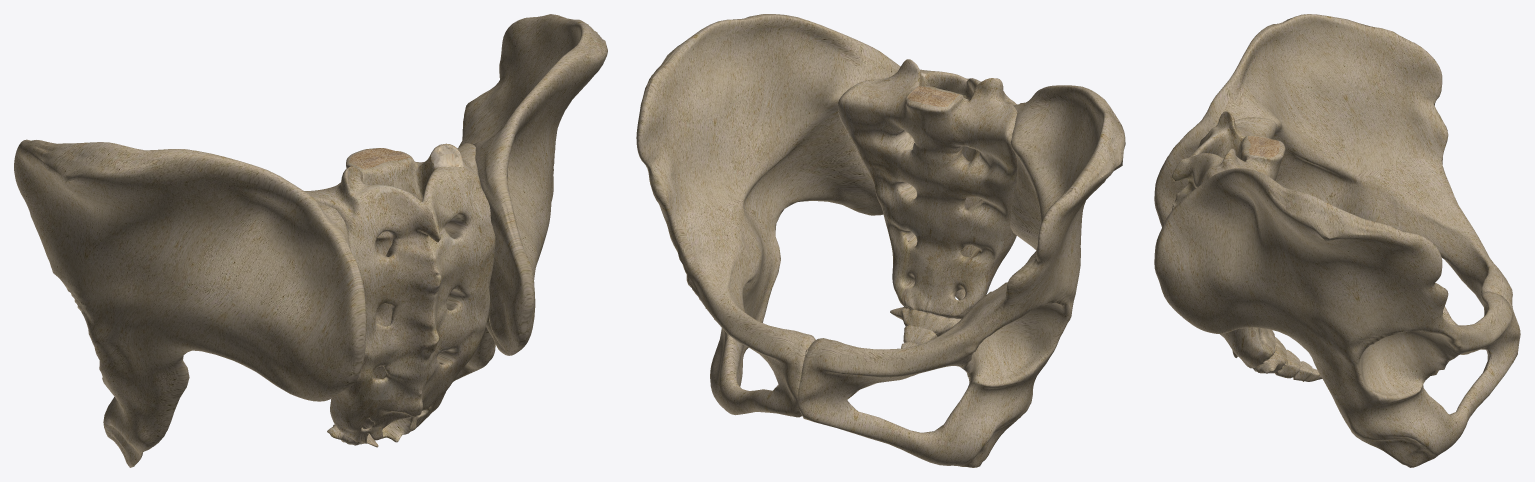
The model's file is pelvis.glb.
3 renders of one model, left to right at view 1: azimuth 30°, elevation 25°; view 2: azimuth 150°, elevation 25°; view 3: azimuth 270°, elevation 25°, orthographic. The views are drawn at different scales.
Parts seen in each view (by area): view 1: Object_5, Object_2, Object_6, Object_3, Object_4; view 2: Object_6, Object_5, Object_2, Object_3; view 3: Object_6, Object_5, Object_2, Object_3.
Part boxes in pixels (x1,y1,x2,y2): Object_5: (14, 139, 365, 467); Object_2: (304, 143, 495, 447); Object_6: (453, 14, 607, 381); Object_3: (349, 148, 410, 169); Object_4: (431, 145, 463, 168); Object_6: (636, 14, 900, 417); Object_5: (796, 85, 1125, 467); Object_2: (838, 59, 1017, 348); Object_3: (907, 86, 959, 106); Object_6: (1154, 168, 1520, 467); Object_5: (1154, 14, 1520, 333); Object_2: (1172, 111, 1322, 381); Object_3: (1248, 136, 1280, 157).
Bounding box in the file's own units: 28 × 19.54 × 21.05.
Materials: 4 (4 with a texture image).
